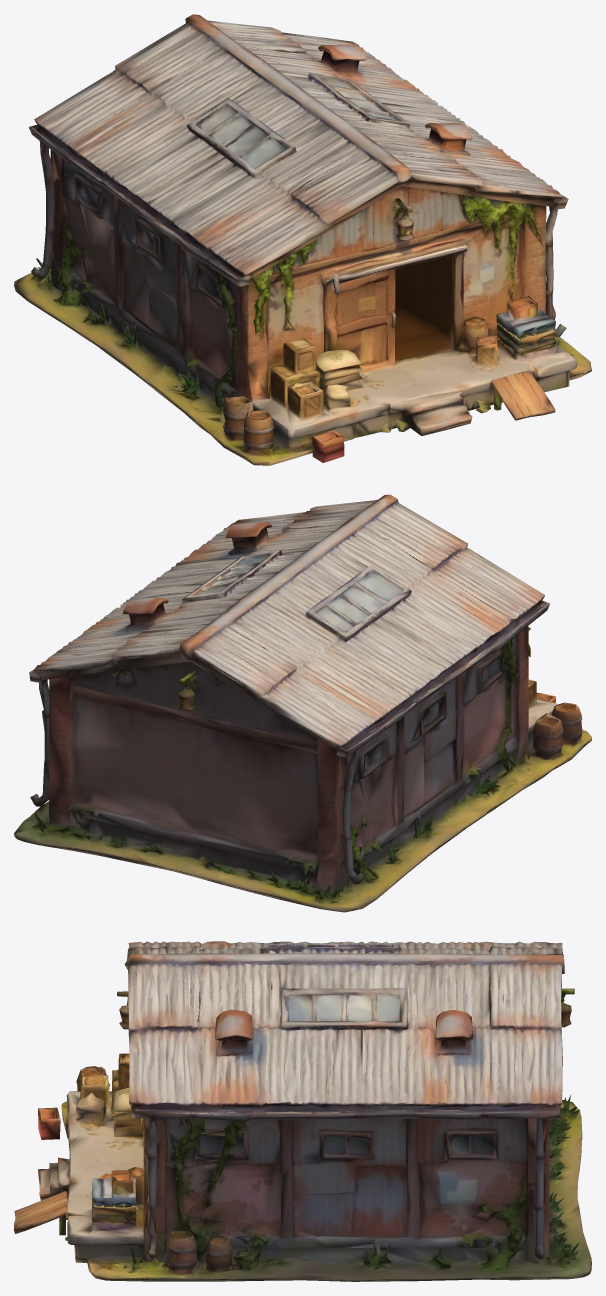
File: gudang.glb
3 renders of one model, top to bottom at view 1: azimuth 30°, elevation 25°; view 2: azimuth 150°, elevation 25°; view 3: azimuth 270°, elevation 25°, orthographic. The views are drawn at different scales.
Parts seen in each view (by area): view 1: tripo_node_74c26977-c9b2-47f2-826b-dc76176c597b; view 2: tripo_node_74c26977-c9b2-47f2-826b-dc76176c597b; view 3: tripo_node_74c26977-c9b2-47f2-826b-dc76176c597b.
Part boxes in pixels (x1=…): tripo_node_74c26977-c9b2-47f2-826b-dc76176c597b: x1=14, y1=14, x2=591, y2=465; tripo_node_74c26977-c9b2-47f2-826b-dc76176c597b: x1=14, y1=494, x2=591, y2=912; tripo_node_74c26977-c9b2-47f2-826b-dc76176c597b: x1=14, y1=941, x2=591, y2=1281.
Bounding box in the file's own units: 0.7405 × 0.4548 × 0.9993.
1 material, 1 textured.
